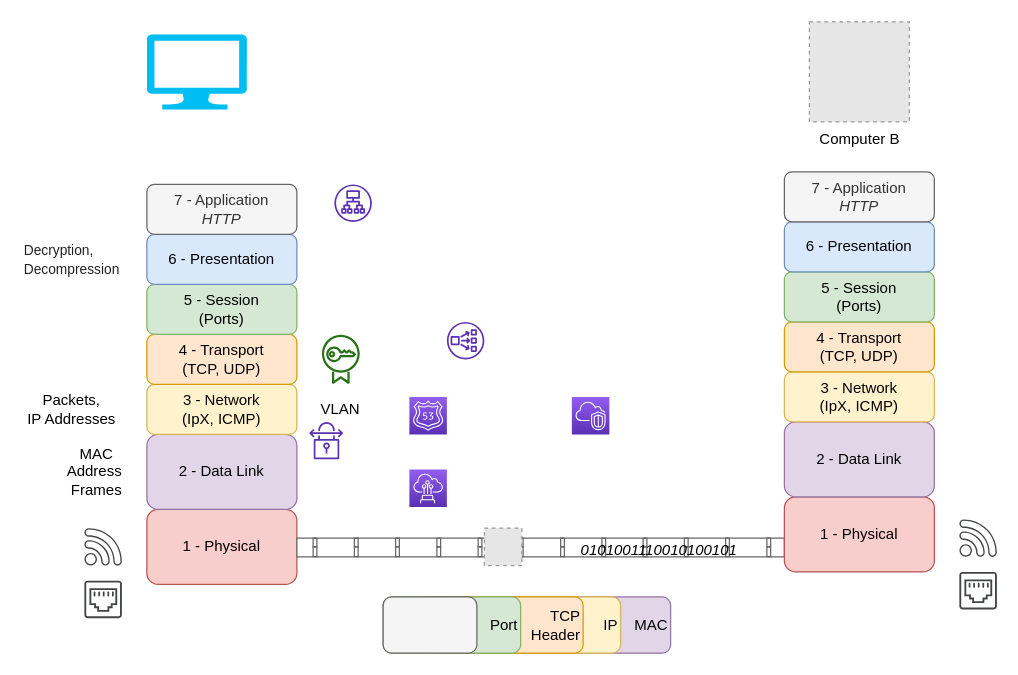
This 1018x675 diagram has some shape labels left out. Grey dashed boxes stand in for pictures. The shapes that lost their labels are listed below. From the top down, each one's centre as x and y in pixels, then its label:
(196,71): Computer A
(352,202): Application Load Balancer
(340,359): SSL / TLS
(465,340): Network Load Balancer
(427,415): Route 53 (DNS)
(590,415): VPC
(325,440): VPN
(427,487): Direct Connect
(429,624): Data
